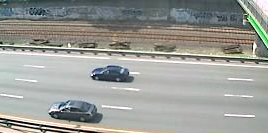car: (47, 98, 102, 124), (88, 62, 134, 84)
